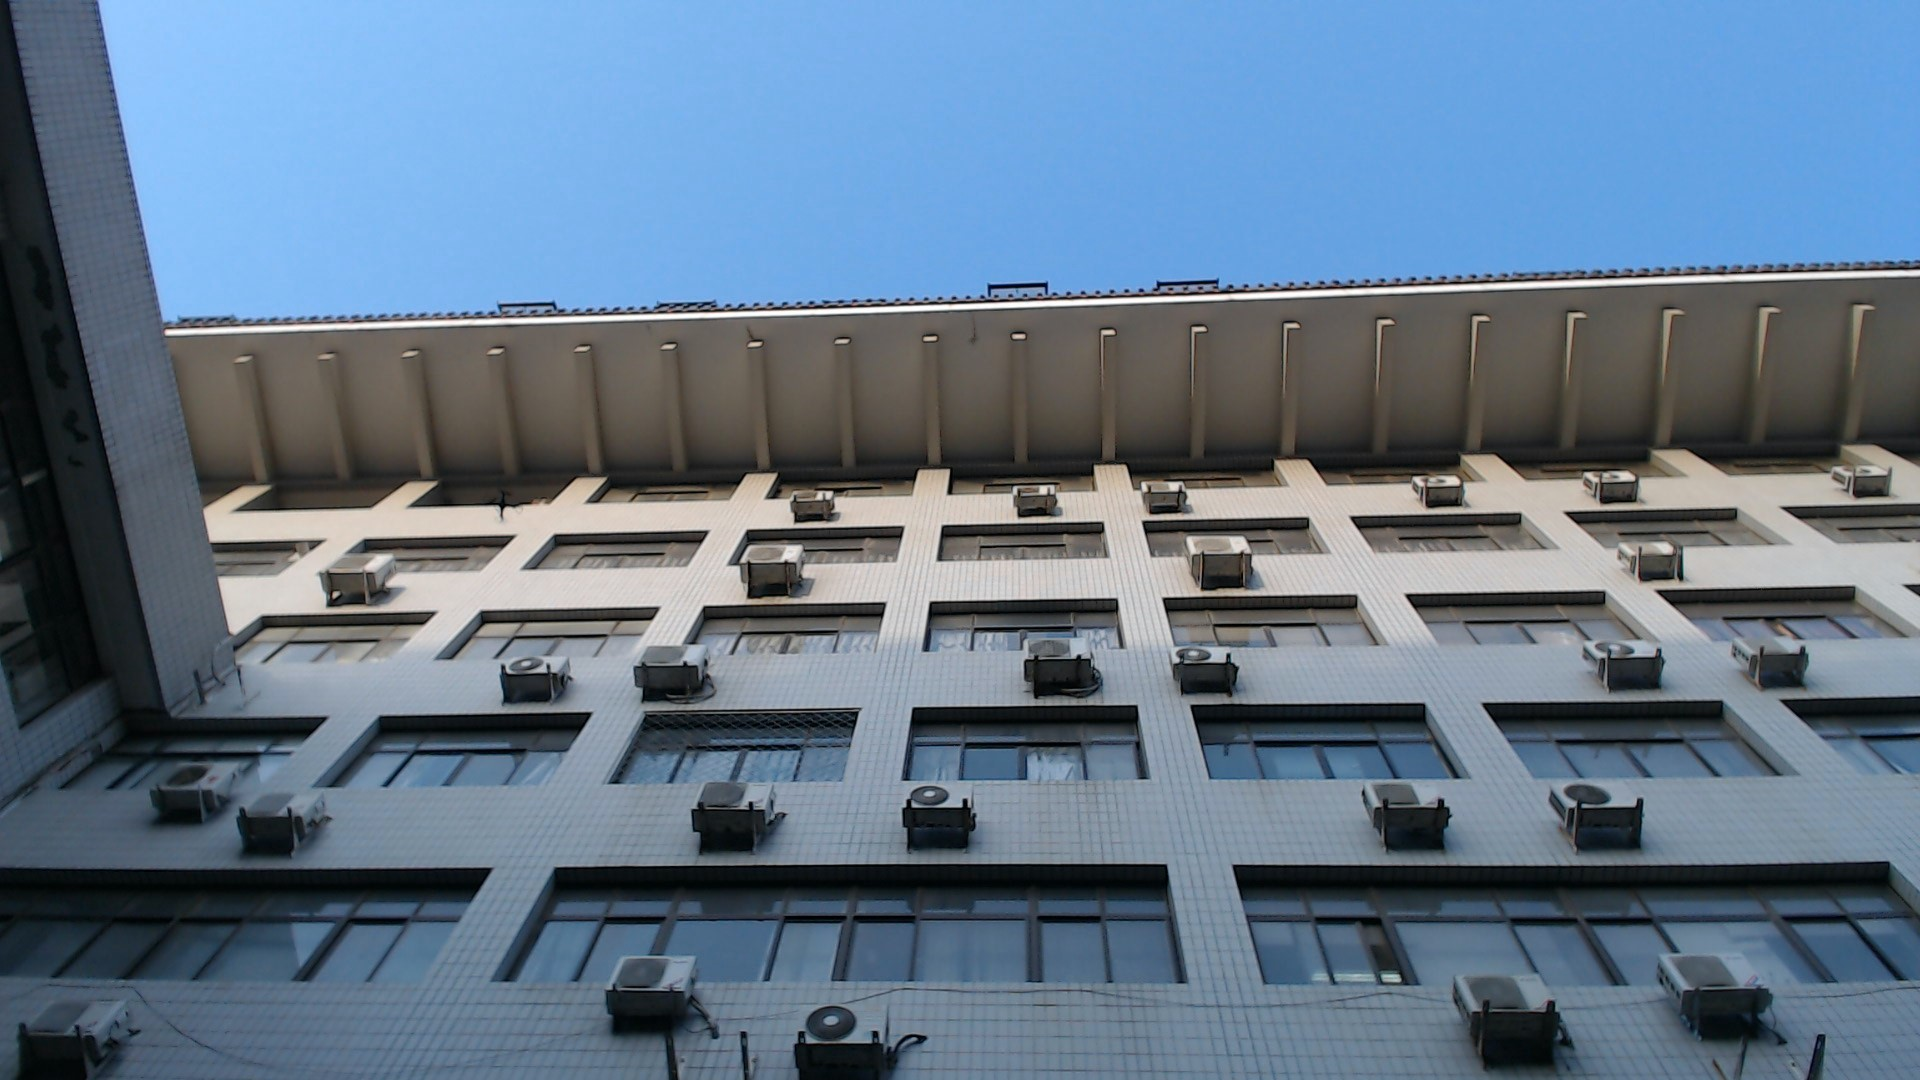drone: (484, 488, 526, 522)
